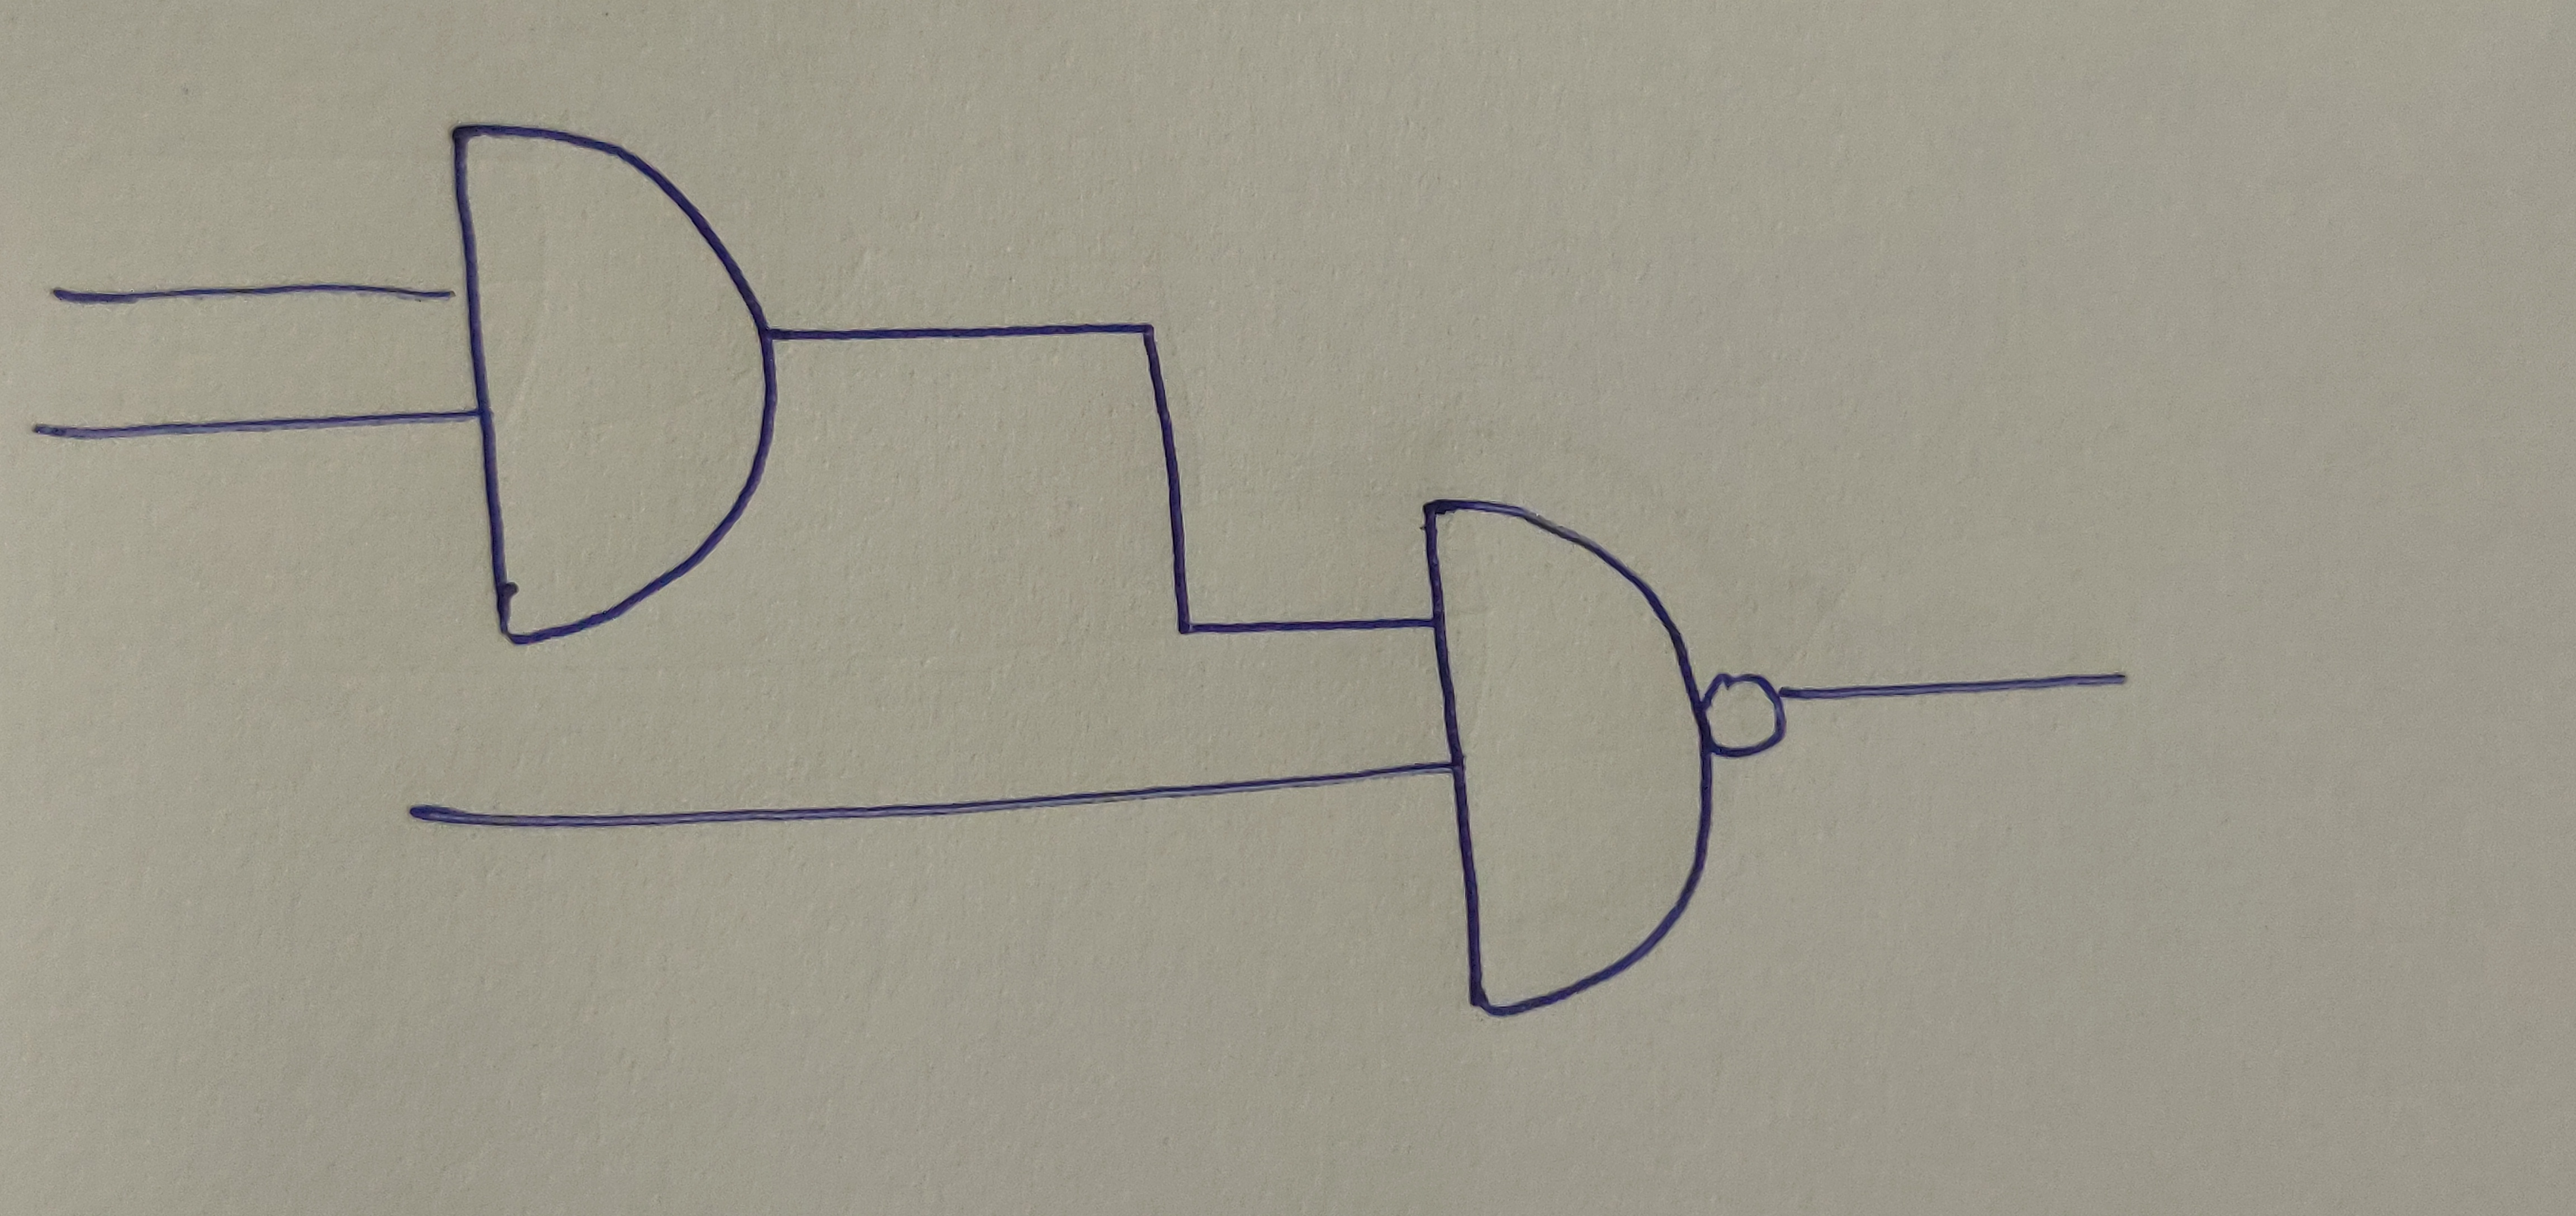and: (440, 118, 777, 651), (1414, 498, 1709, 1019)
not: (1699, 672, 1787, 764)
